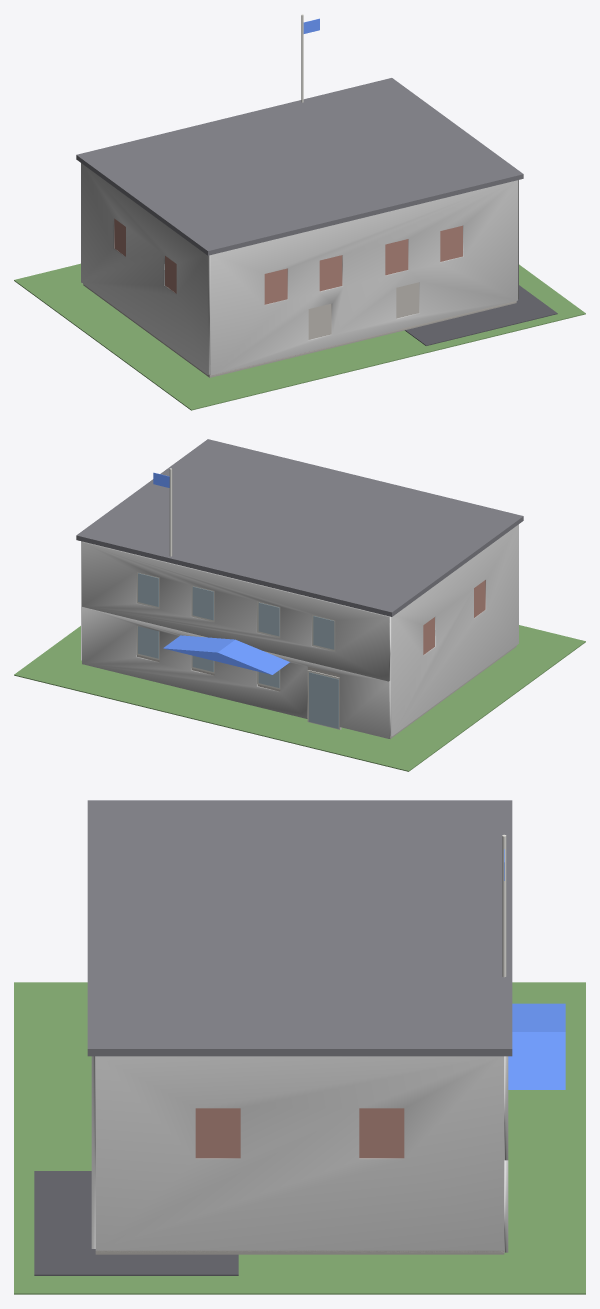
Rendered from police_station.glb.
The picture shows the model from 3 angles, top to bottom: view 1: azimuth 30°, elevation 25°; view 2: azimuth 150°, elevation 25°; view 3: azimuth 270°, elevation 25°; orthographic projection. The views are drawn at different scales.
Visible parts, largest first — view 1: roof, back_wall, lawn, left_wall, upper, parking, ground, foundation; view 2: roof, lawn, front_u, left_wall, front_g, frame (×6), glass (×6), awning, upper; view 3: roof, right_wall, lawn, parking, awning, upper, foundation, back_wall, pole, ground.
Boxes of the visible parts, x1,y1,x2,y2 form: roof: (76, 78, 523, 255); back_wall: (209, 180, 517, 375); lawn: (14, 263, 585, 410); left_wall: (81, 163, 209, 374); upper: (114, 218, 462, 304); parking: (405, 285, 557, 345); ground: (116, 282, 516, 376); foundation: (83, 284, 516, 377); roof: (76, 439, 523, 616); lawn: (14, 625, 585, 771); front_u: (82, 541, 390, 681); left_wall: (390, 524, 518, 736); front_g: (82, 607, 390, 738); frame (×6): (136, 572, 341, 729); glass (×6): (138, 573, 338, 728); awning: (163, 635, 289, 674); upper: (423, 580, 485, 654); roof: (87, 800, 512, 1056); right_wall: (95, 1056, 504, 1250); lawn: (14, 982, 585, 1294); parking: (34, 1171, 238, 1275); awning: (508, 1003, 565, 1089); upper: (195, 1108, 404, 1158); foundation: (95, 1250, 504, 1254); back_wall: (91, 1056, 95, 1248); pole: (502, 834, 506, 977); ground: (96, 1250, 503, 1252).
Size of the model in its own units: 18 by 9.6 by 14.
